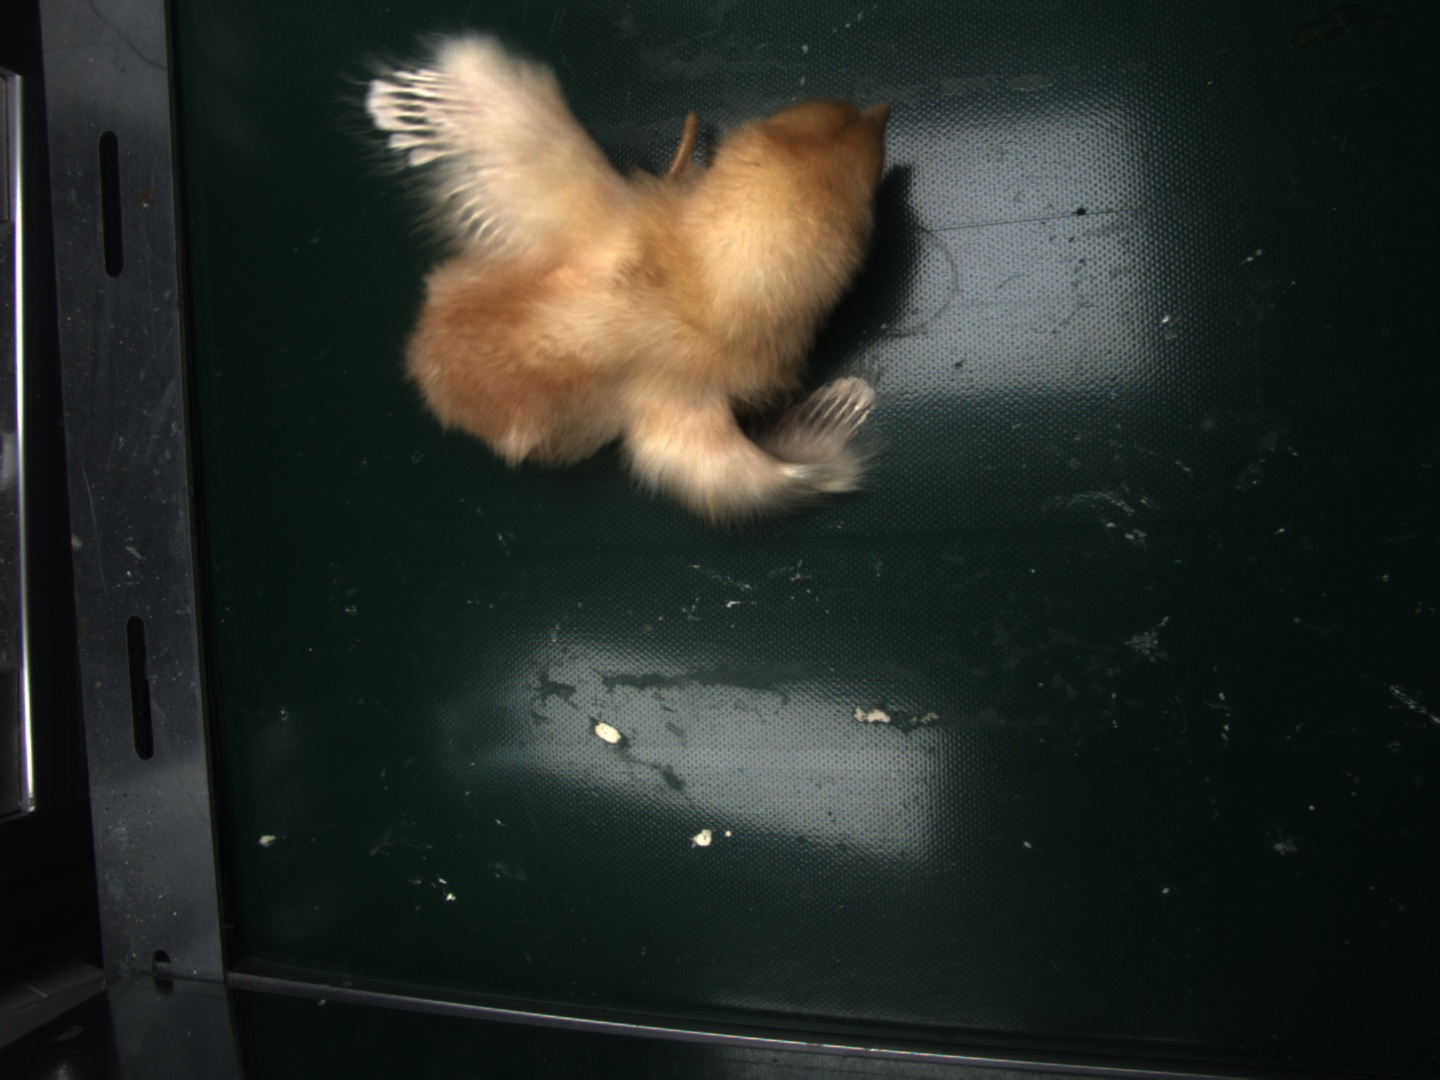female: (367, 60, 460, 161)
